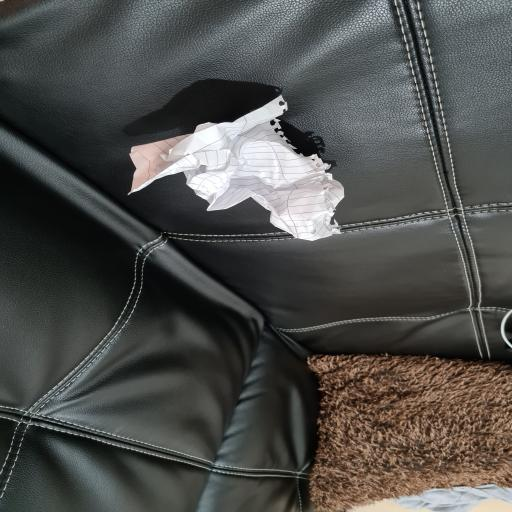Kertas: (130, 97, 344, 240)
